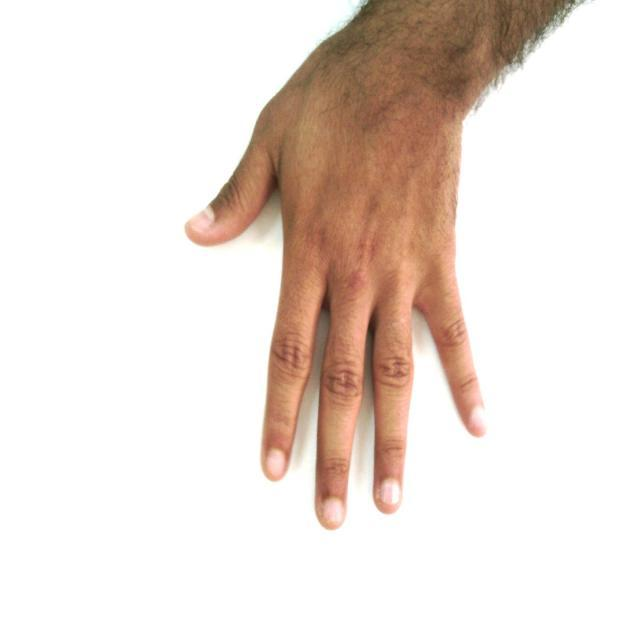Fingernail: (187, 208, 213, 231), (323, 499, 343, 527), (266, 450, 285, 478), (381, 479, 400, 506), (470, 410, 485, 434)
